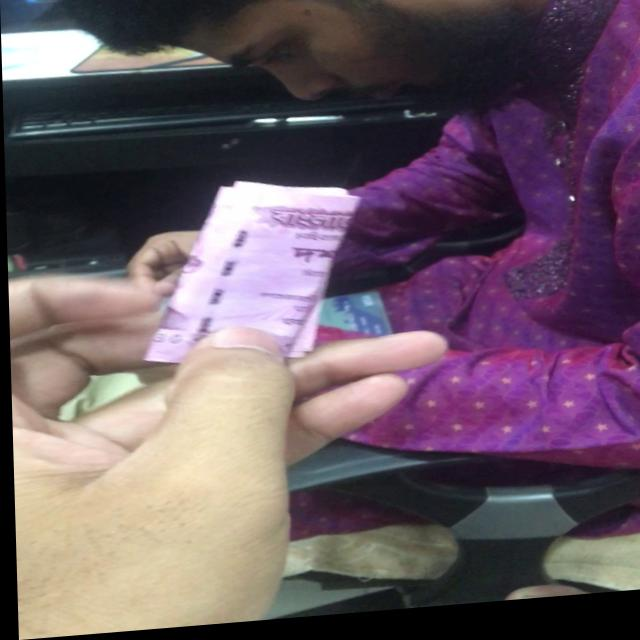Taka: (155, 182, 339, 374)
